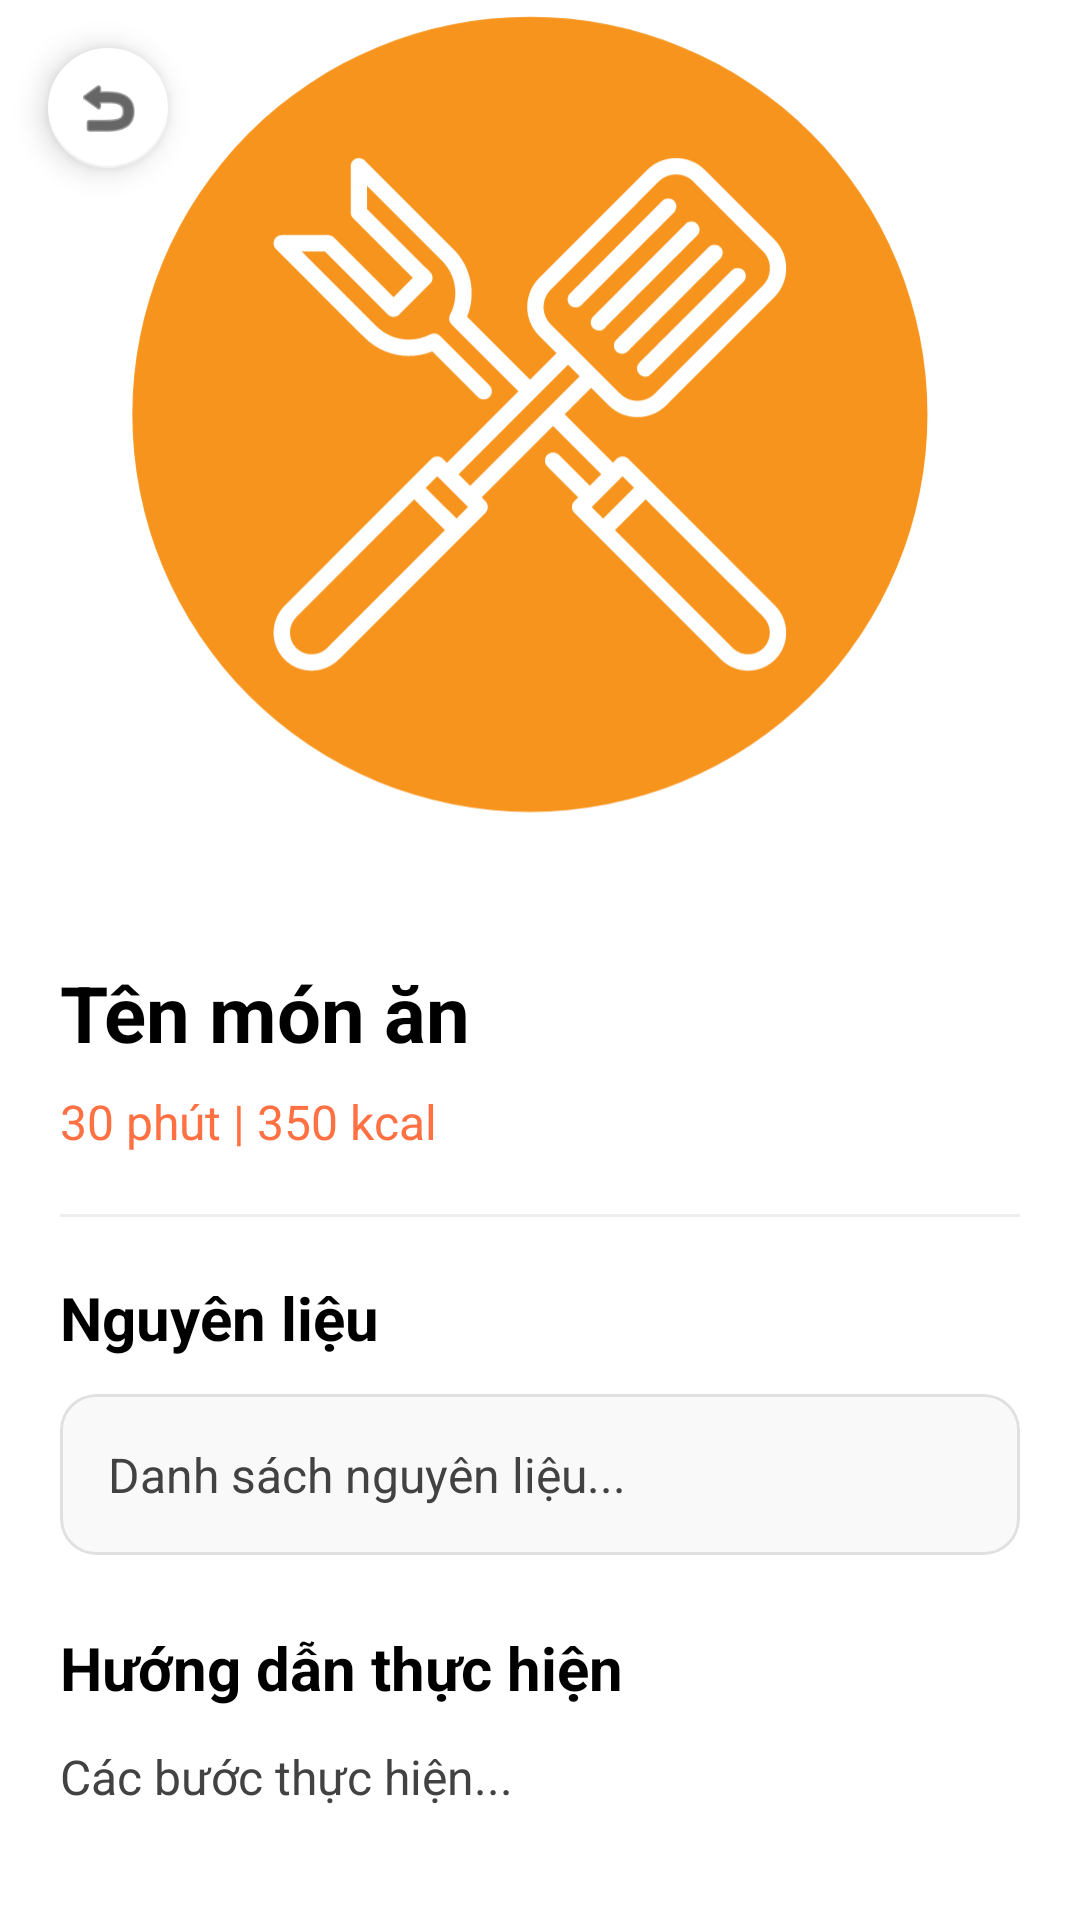

Named icons in this screenshot (1080*1920) and their centers, [x,y]:
revert: [90,112]
